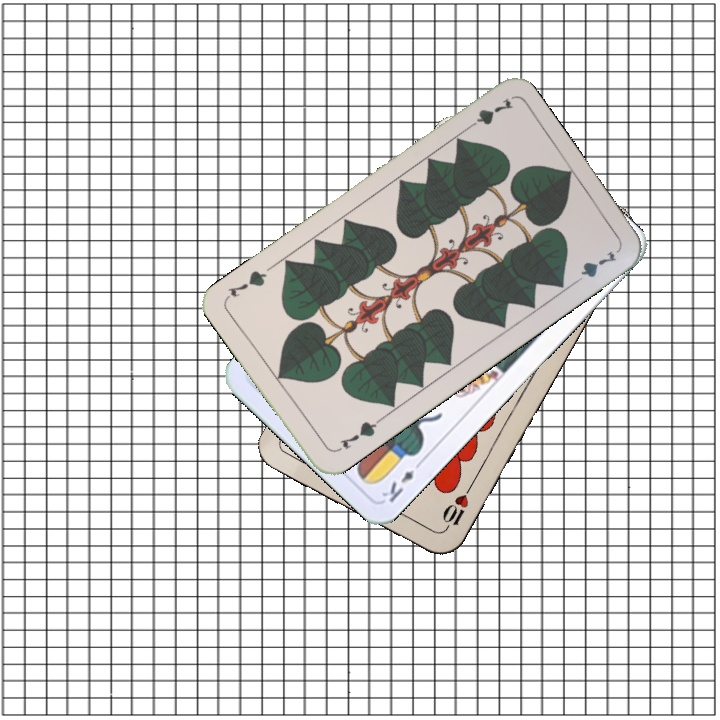EK: (377, 455, 426, 505)
G7: (460, 94, 516, 134), (336, 415, 383, 453)
H10: (438, 481, 475, 535)
